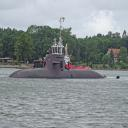submarine: (9, 54, 122, 79)
